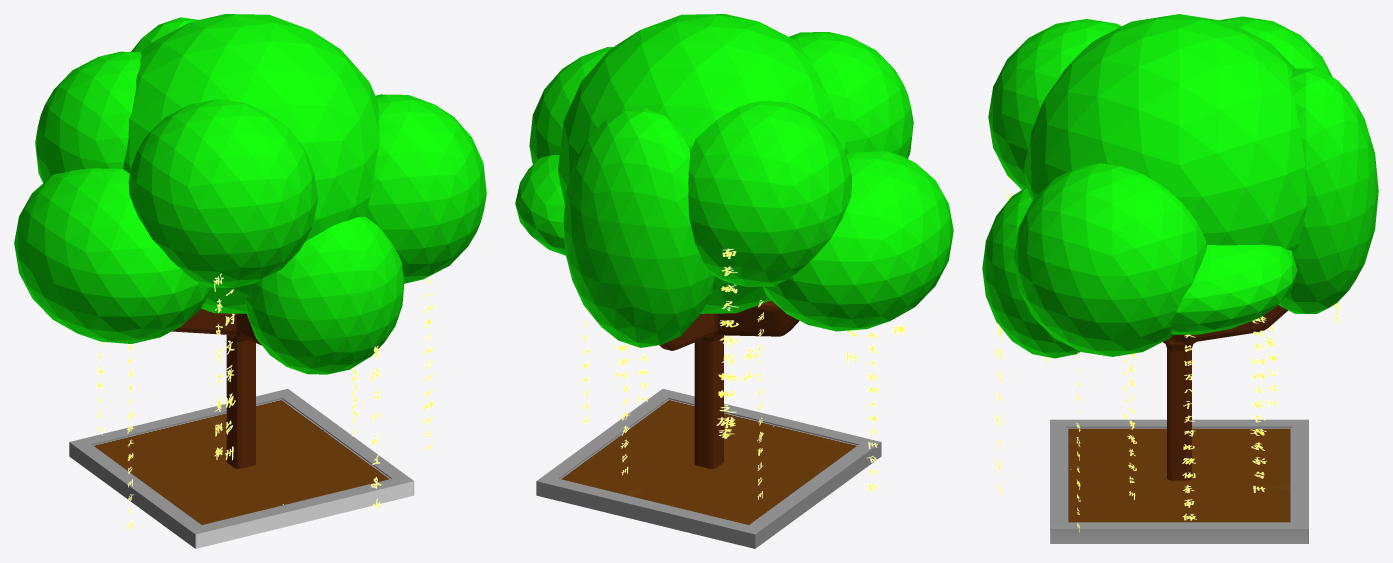
3 renders of one model, left to right at view 1: azimuth 30°, elevation 25°; view 2: azimuth 150°, elevation 25°; view 3: azimuth 270°, elevation 25°, orthographic. The views are drawn at different scales.
Parts seen in each view (by area): view 1: 棱角球, 立方体, Cube, 平面; view 2: 棱角球, 立方体, Cube, 平面; view 3: 棱角球, 立方体, Cube, 平面.
Boxes of the visible parts, x1,y1,x2,y2 form: 棱角球: [14, 14, 486, 374]; 立方体: [69, 388, 414, 548]; Cube: [172, 308, 261, 468]; 平面: [96, 273, 434, 529]; 棱角球: [515, 14, 953, 347]; 立方体: [536, 389, 881, 548]; Cube: [659, 300, 799, 468]; 平面: [581, 248, 906, 499]; 棱角球: [982, 14, 1378, 358]; 立方体: [1050, 419, 1308, 543]; Cube: [1163, 305, 1287, 480]; 平面: [995, 176, 1340, 532].
Bounding box in the file's own units: 10.43 × 10.82 × 8.35.
Materials: 4 (2 with a texture image).
